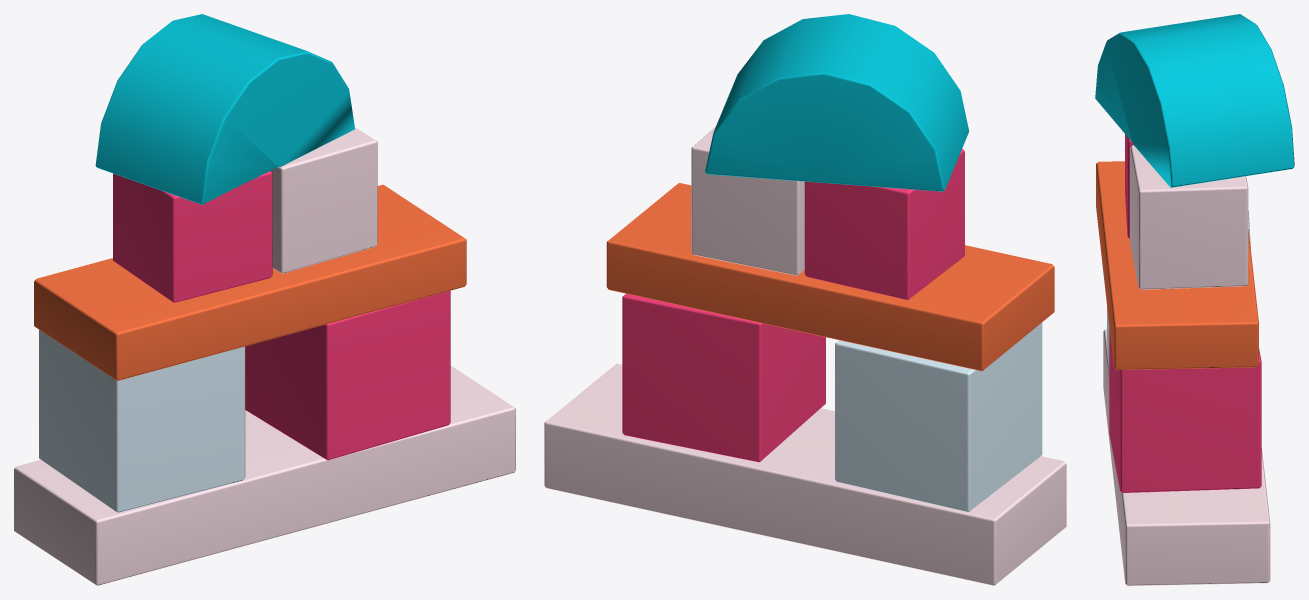
The model's file is Store_9_Toys_set_1.glb.
The picture shows the model from 3 angles, left to right: view 1: azimuth 30°, elevation 25°; view 2: azimuth 150°, elevation 25°; view 3: azimuth 270°, elevation 25°; orthographic projection. The views are drawn at different scales.
Parts seen in each view (by area): view 1: Store_9_Toys_set_1; view 2: Store_9_Toys_set_1; view 3: Store_9_Toys_set_1.
Part boxes in pixels (x1,y1,x2,y2): Store_9_Toys_set_1: (14,14,515,585); Store_9_Toys_set_1: (544,14,1066,585); Store_9_Toys_set_1: (1095,14,1294,585).
Bounding box in the file's own units: 0.4765 × 0.4868 × 0.2009.
1 material, 1 textured.
